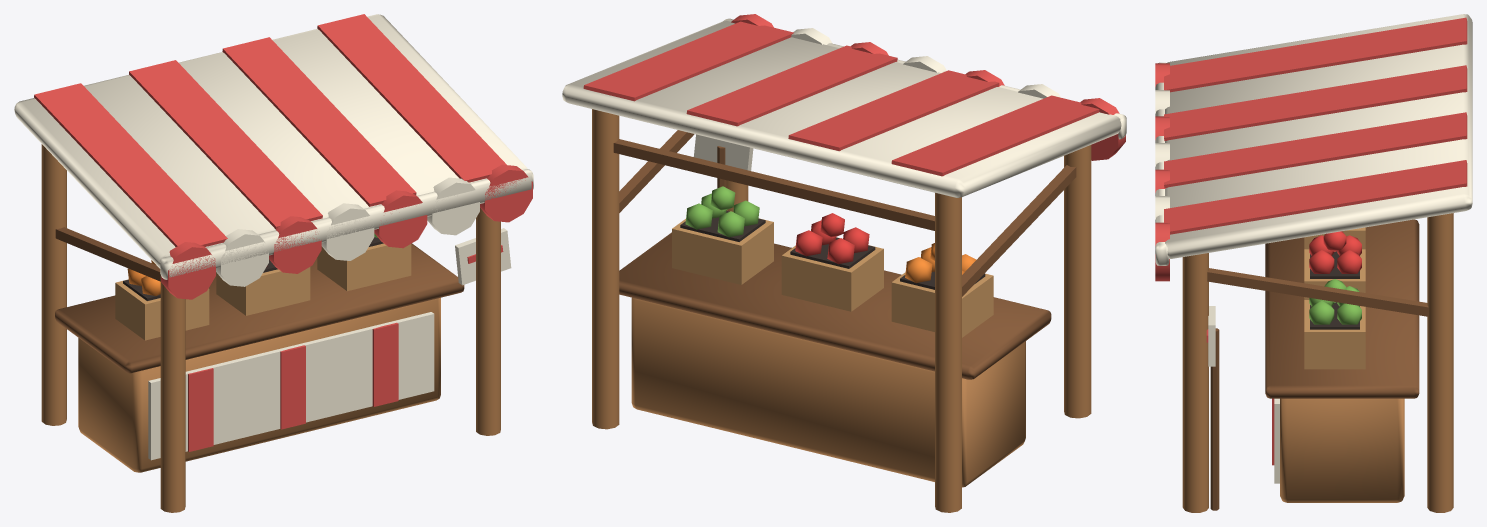
File: v_market.glb
3 renders of one model, left to right at view 1: azimuth 30°, elevation 25°; view 2: azimuth 150°, elevation 25°; view 3: azimuth 270°, elevation 25°, orthographic. The views are drawn at different scales.
Parts seen in each view (by area): view 1: Market; view 2: Market; view 3: Market.
Part boxes in pixels (x1,y1,x2,y2): Market: (14,14,533,512); Market: (562,14,1126,512); Market: (1155,14,1472,512).
Bounding box in the file's own units: 3.01 × 2.47 × 2.17.
